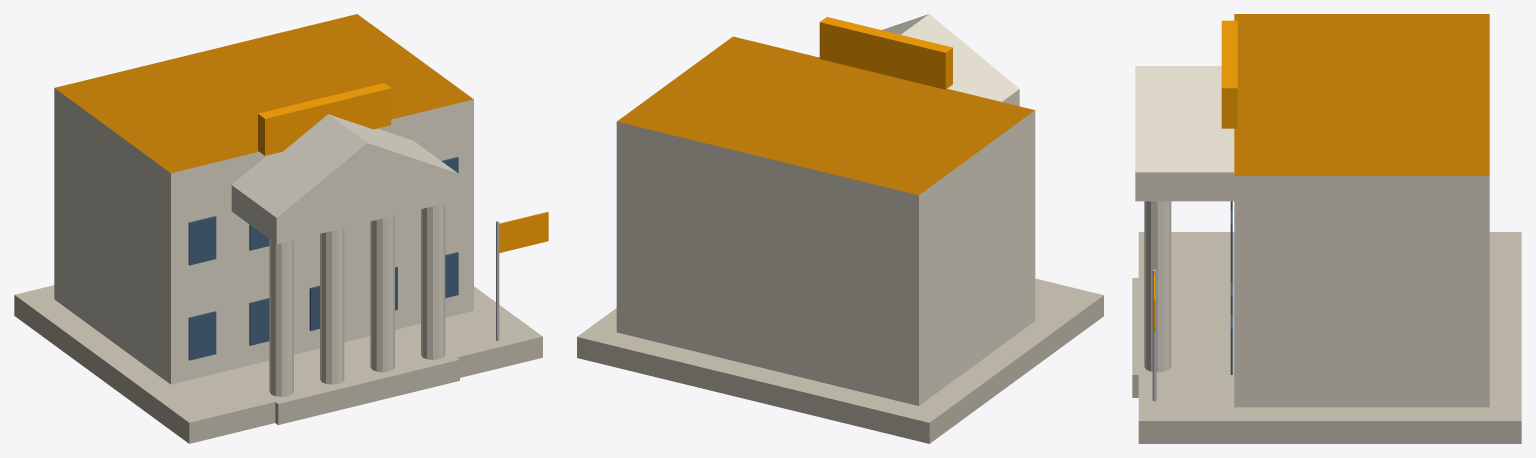
Rendered from gov_min_edu.glb.
The picture shows the model from 3 angles, left to right: view 1: azimuth 30°, elevation 25°; view 2: azimuth 150°, elevation 25°; view 3: azimuth 270°, elevation 25°; orthographic projection. The views are drawn at different scales.
Parts seen in each view (by area): view 1: box; view 2: box; view 3: box.
Boxes of the visible parts, bbox=[...] form: box: bbox=[14, 14, 548, 443]; box: bbox=[577, 14, 1103, 443]; box: bbox=[1132, 14, 1521, 443].
Size of the model in its own units: 14.5 by 10.2 by 12.2.
